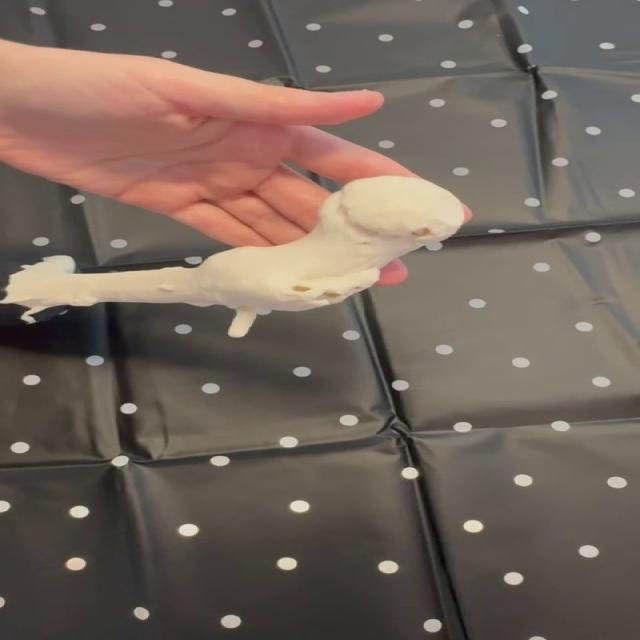bones: (0, 177, 462, 337)
